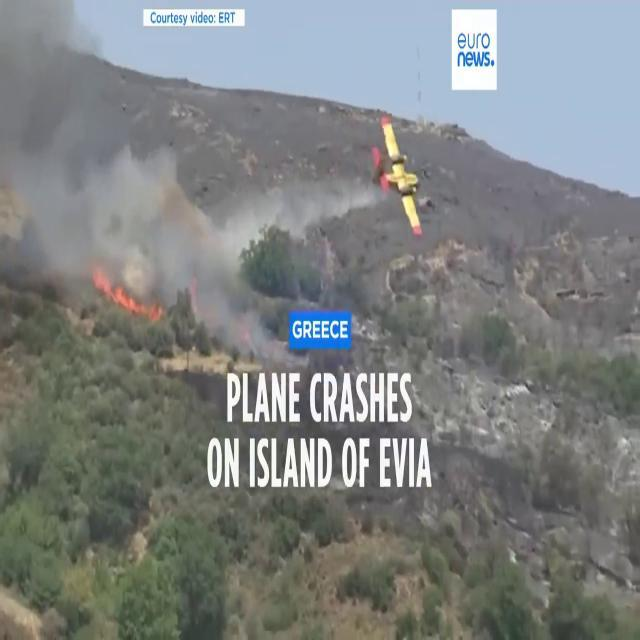Fire: (92, 278, 166, 328)
Smoke: (0, 0, 194, 325)
